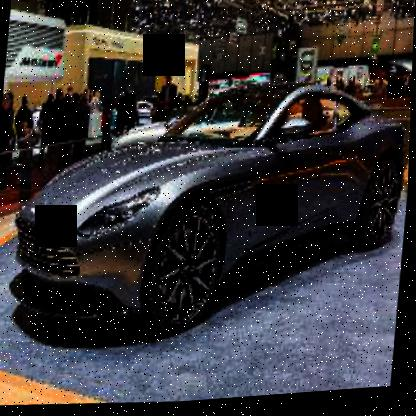not_emergency: (12, 59, 413, 339)
